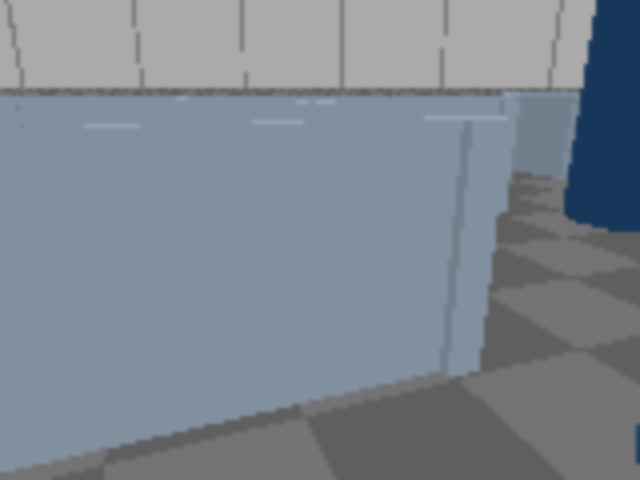person: (578, 0, 638, 234)
